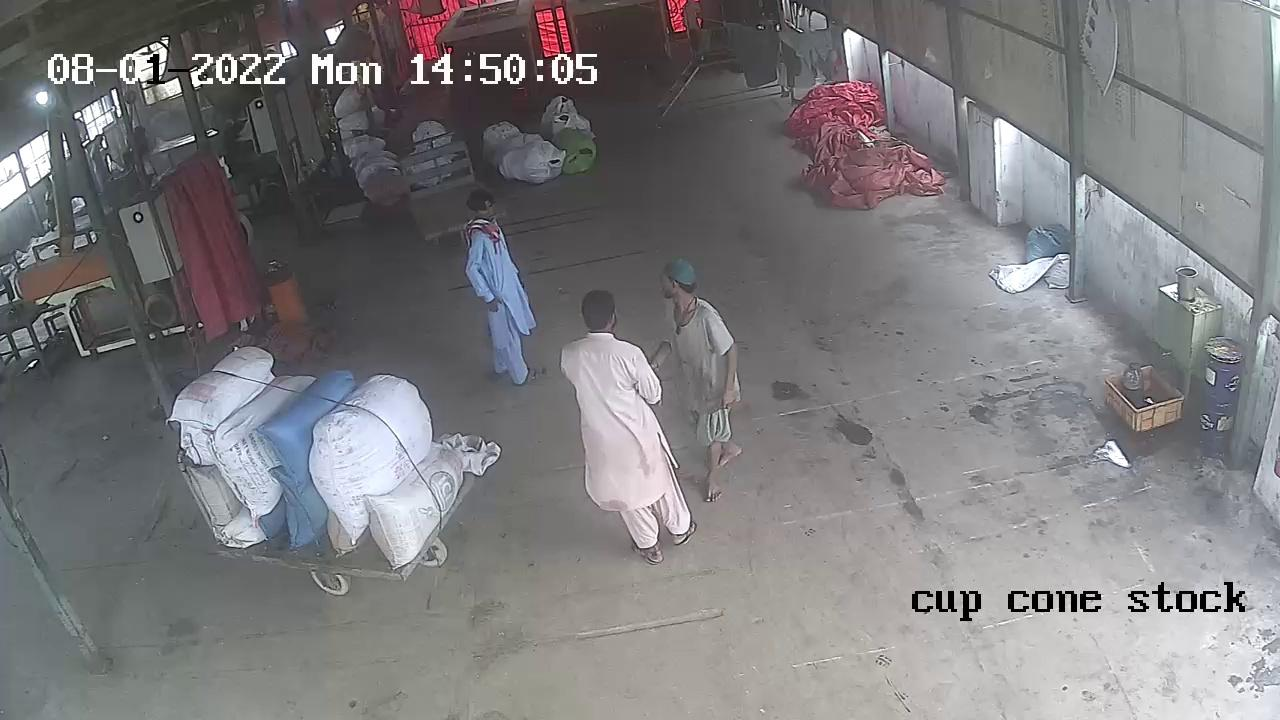person: (571, 278, 680, 553), (666, 265, 742, 490), (456, 183, 532, 392)
